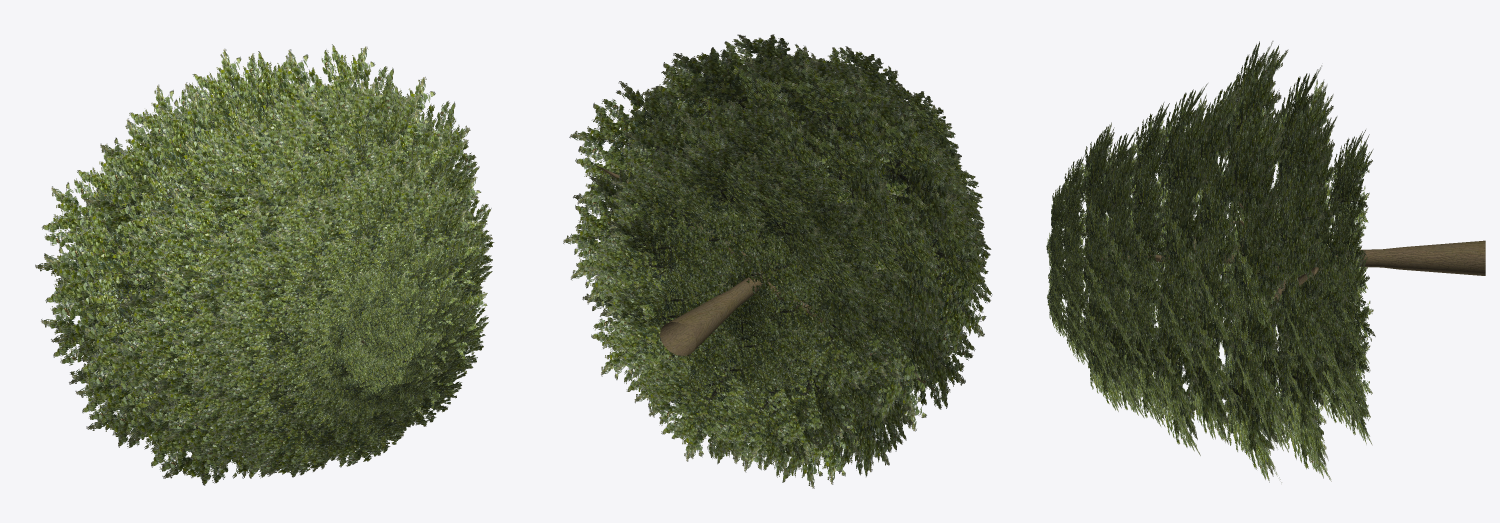
File: tree_joel.obj
3 views of the same model, side by side, from view 1: azimuth 30°, elevation 25°; view 2: azimuth 150°, elevation 25°; view 3: azimuth 270°, elevation 25° (orthographic). The views are drawn at different scales.
Parts seen in each view (by area): view 1: Leaves.550_Plane.552; view 2: Leaves.550_Plane.552, Sphere.004_Sphere.006; view 3: Leaves.550_Plane.552, Sphere.004_Sphere.006.
Part boxes in pixels (<box>): Leaves.550_Plane.552: <box>35,44,494,485</box>; Leaves.550_Plane.552: <box>563,34,992,488</box>; Sphere.004_Sphere.006: <box>593,164,938,392</box>; Leaves.550_Plane.552: <box>1046,41,1375,482</box>; Sphere.004_Sphere.006: <box>1064,202,1485,363</box>.
Bounding box in the file's own units: 1264 × 1176 × 1081.
